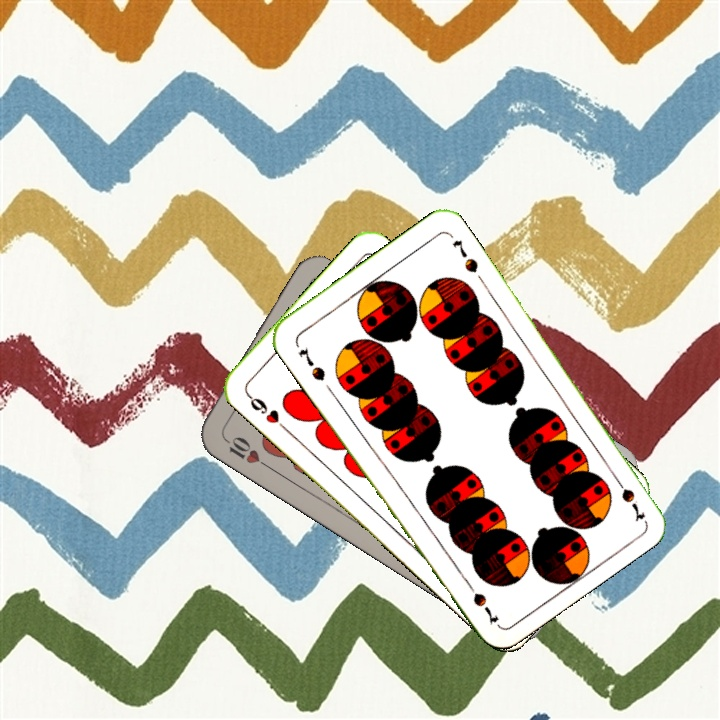H10: (219, 432, 271, 470)
H9: (242, 390, 291, 434)
S7: (608, 470, 648, 523), (294, 344, 328, 384)
